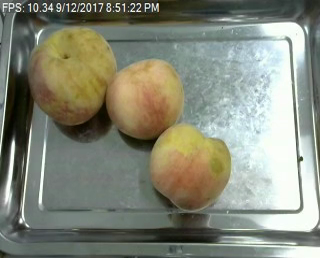Peach: (27, 25, 114, 124), (148, 122, 231, 212), (106, 59, 185, 140)
